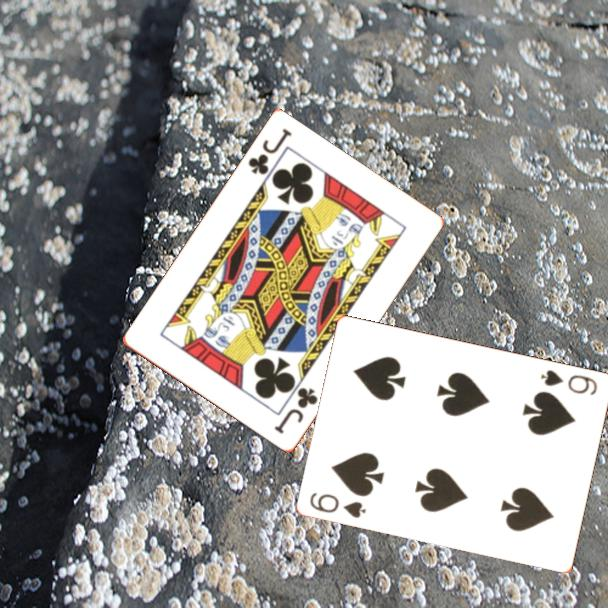c11: (270, 384, 321, 437), (244, 125, 295, 178)
s06: (307, 488, 369, 521), (537, 366, 600, 398)
